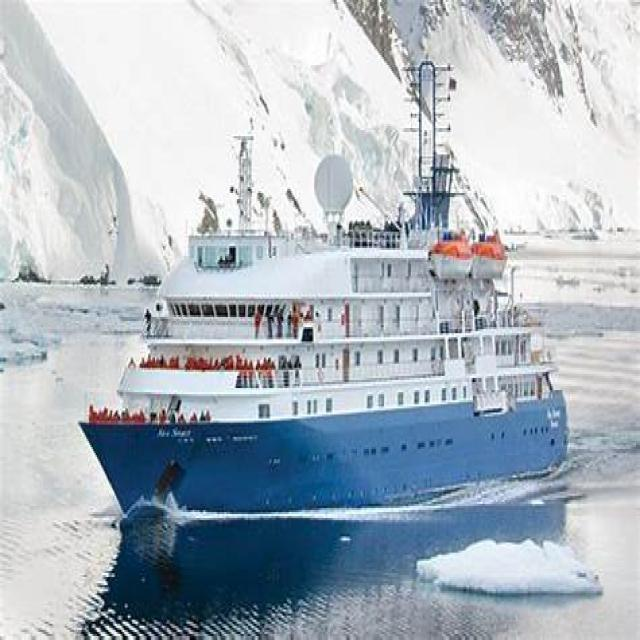PassengerShip: (82, 148, 495, 522)
